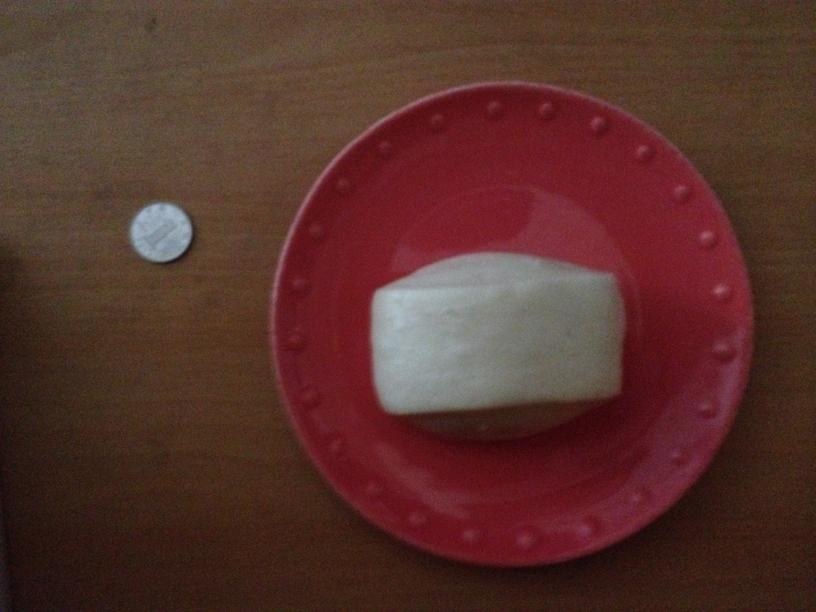bun: (360, 251, 622, 439)
coin: (125, 201, 193, 262)
